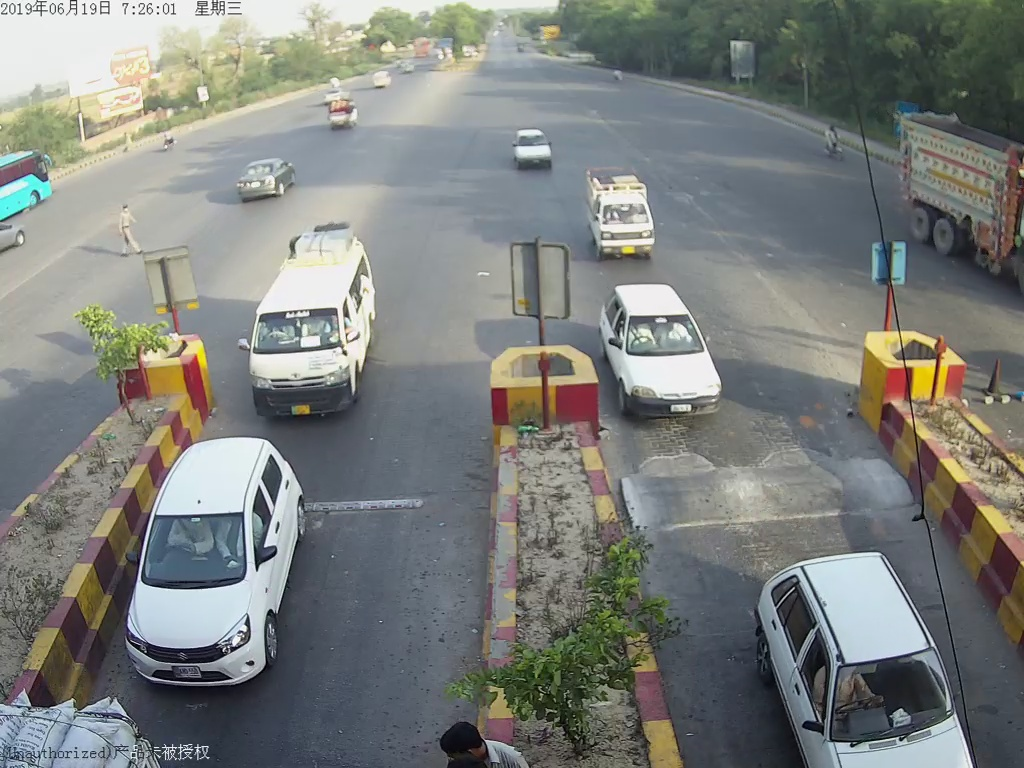Cat-1: (122, 440, 319, 690), (596, 266, 733, 424), (581, 167, 667, 259)
Cat-2: (248, 233, 391, 419)
